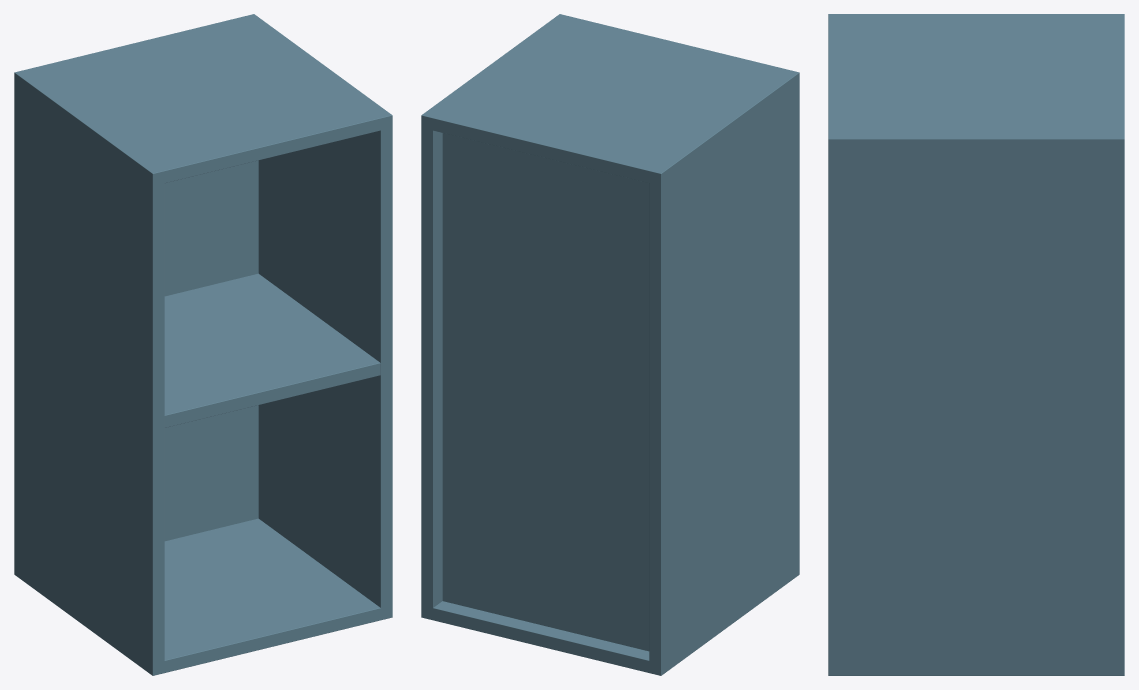
The model's file is MOD-1X2-S-B-AC.glb.
3 renders of one model, left to right at view 1: azimuth 30°, elevation 25°; view 2: azimuth 150°, elevation 25°; view 3: azimuth 270°, elevation 25°, orthographic. The views are drawn at different scales.
Size of the model in its own units: 360 by 720 by 360.
